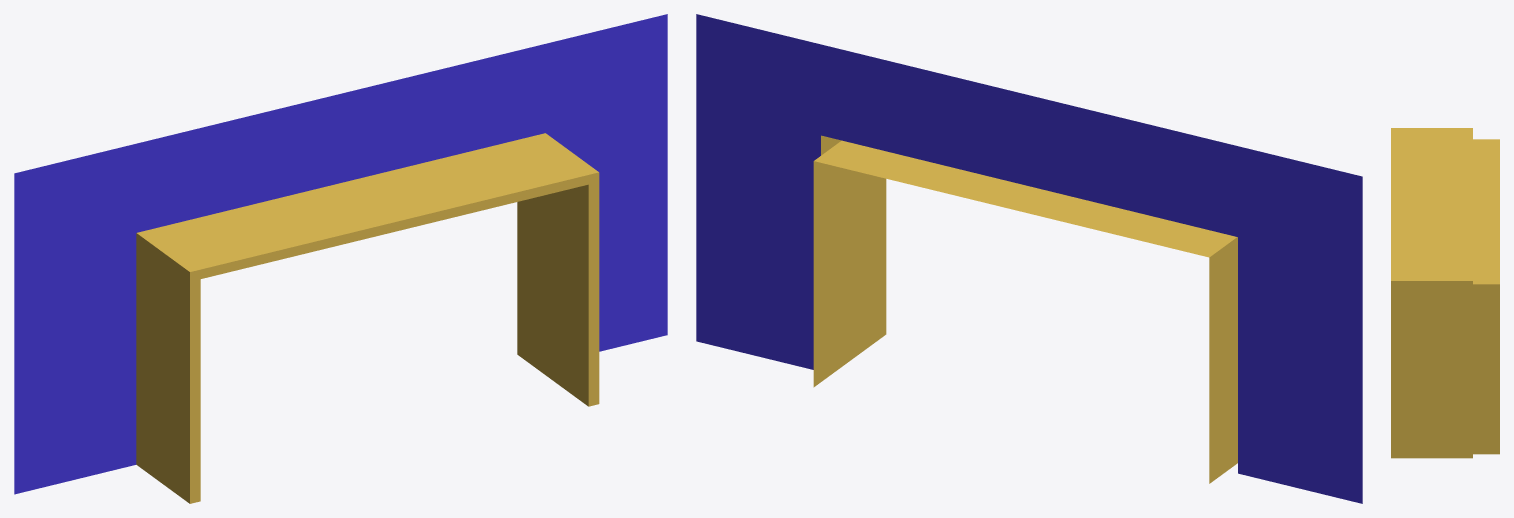
File: EntranceDoorFrameModel.fbx
The picture shows the model from 3 angles, left to right: view 1: azimuth 30°, elevation 25°; view 2: azimuth 150°, elevation 25°; view 3: azimuth 270°, elevation 25°; orthographic projection. The views are drawn at different scales.
Visible parts, largest first — view 1: mall_storefront02_col; view 2: mall_storefront02_col; view 3: mall_storefront02_col.
Part boxes in pixels (bbox=[...]): mall_storefront02_col: bbox=[14, 14, 667, 503]; mall_storefront02_col: bbox=[696, 14, 1362, 503]; mall_storefront02_col: bbox=[1391, 128, 1499, 458].
Size of the model in its own units: 704 by 331 by 133.
